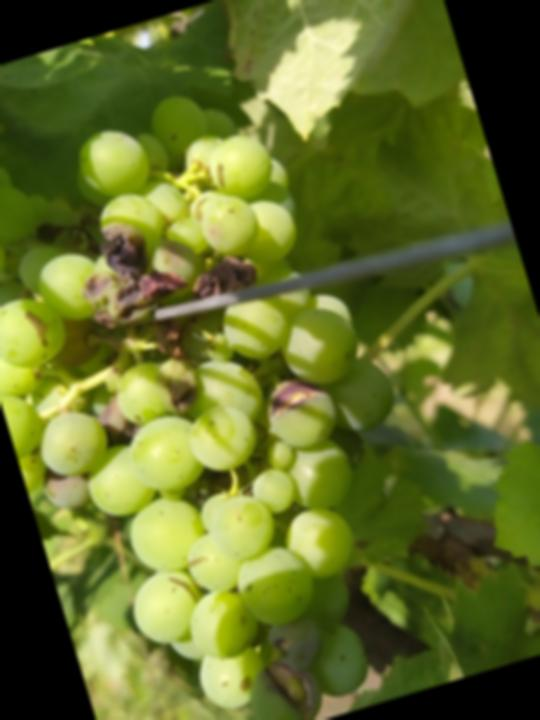grape: (0, 58, 485, 720)
